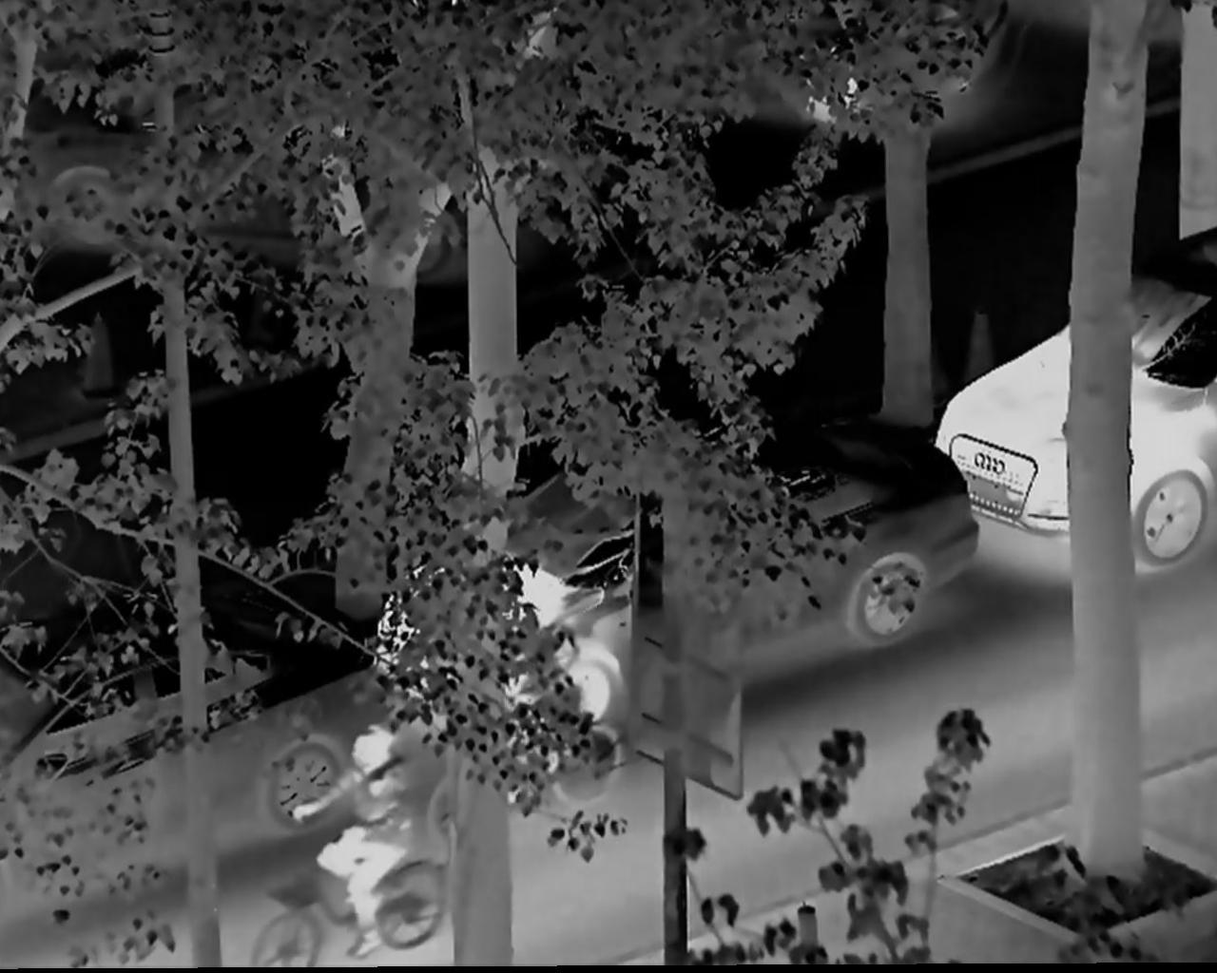person: (285, 731, 426, 964)
